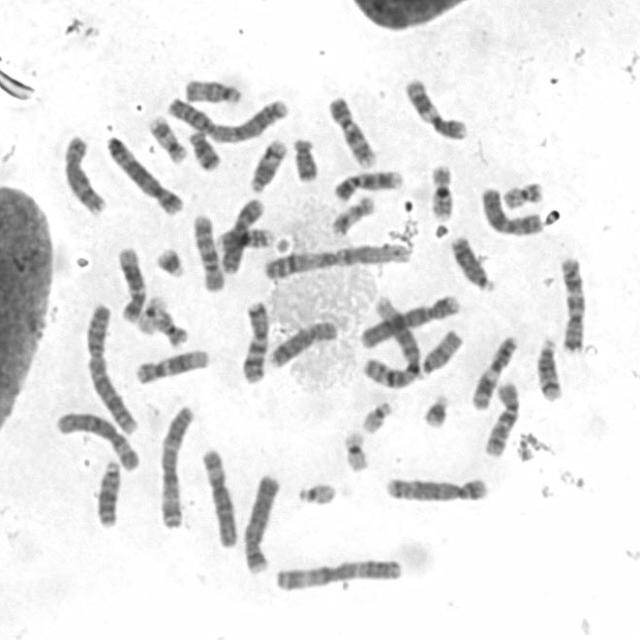A1: (262, 237, 418, 283), (357, 293, 426, 390)
A2: (84, 302, 140, 436), (162, 90, 291, 147)
A3: (156, 402, 197, 536), (273, 554, 406, 594)
B4: (356, 292, 463, 351), (242, 472, 285, 578)
B5: (103, 135, 185, 219), (381, 474, 494, 506)
C10: (478, 378, 524, 462), (190, 212, 226, 295)
C11: (402, 75, 472, 145), (469, 334, 520, 412)
C12: (133, 347, 212, 385), (113, 244, 148, 323)
C6: (53, 406, 144, 477), (200, 448, 239, 552)
C7: (560, 253, 590, 357), (242, 298, 272, 391)
C8: (54, 133, 110, 219), (217, 197, 267, 276)
C9: (322, 94, 382, 173), (328, 167, 408, 207)
D13: (446, 234, 497, 296), (93, 459, 122, 531)
D14: (534, 335, 570, 410), (249, 137, 288, 195)
D15: (414, 329, 467, 381), (183, 71, 249, 109)
E16: (428, 161, 461, 226), (215, 227, 278, 253)
E17: (145, 113, 190, 167), (329, 194, 376, 237)
E18: (186, 128, 225, 174), (292, 137, 321, 185)
F19: (339, 428, 371, 478), (136, 295, 172, 337)
F20: (500, 179, 547, 213), (151, 311, 191, 346)
G21: (151, 244, 190, 284), (424, 394, 451, 435)
G22: (293, 482, 343, 508), (361, 399, 393, 439)
X: (473, 185, 548, 237), (267, 319, 341, 369)
